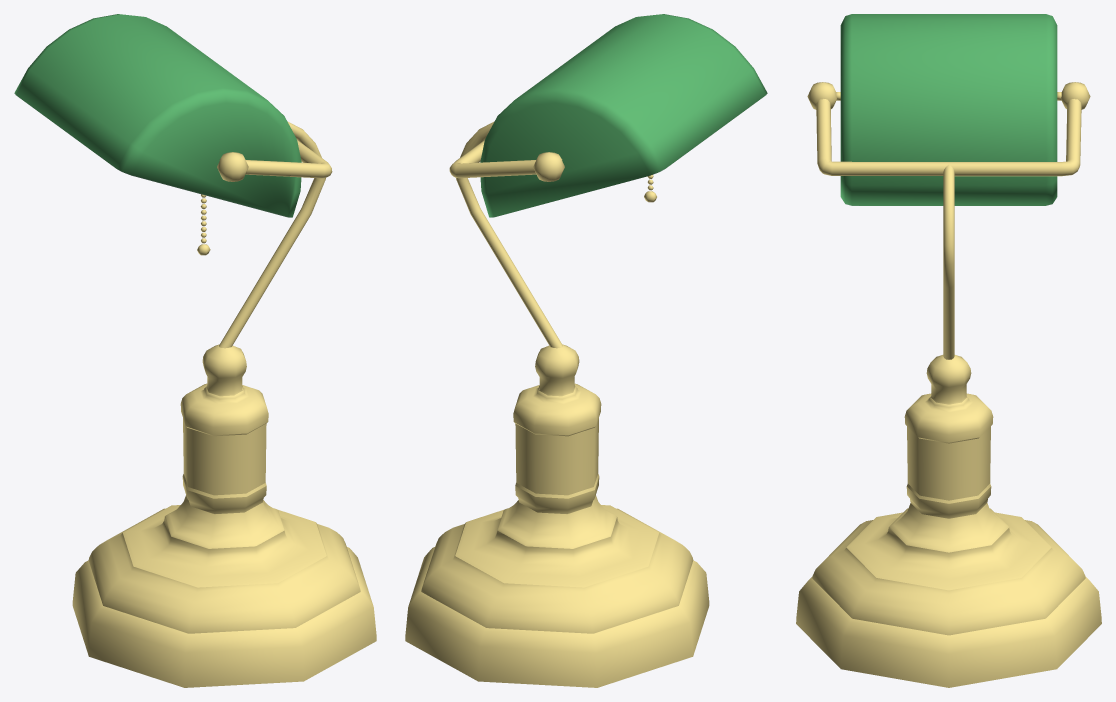
File: Bank Lamp.fbx
3 views of the same model, side by side, from view 1: azimuth 30°, elevation 25°; view 2: azimuth 150°, elevation 25°; view 3: azimuth 270°, elevation 25° (orthographic). The views are drawn at different scales.
Visible parts, largest first — view 1: NurbsPath.002; view 2: NurbsPath.002; view 3: NurbsPath.002.
Boxes of the visible parts, x1,y1,x2,y2 form: NurbsPath.002: (14,14,376,687); NurbsPath.002: (405,14,767,687); NurbsPath.002: (796,14,1101,687).
Size of the model in its own units: 38 by 72.4 by 35.4.
Materials: 2 (1 with a texture image).
